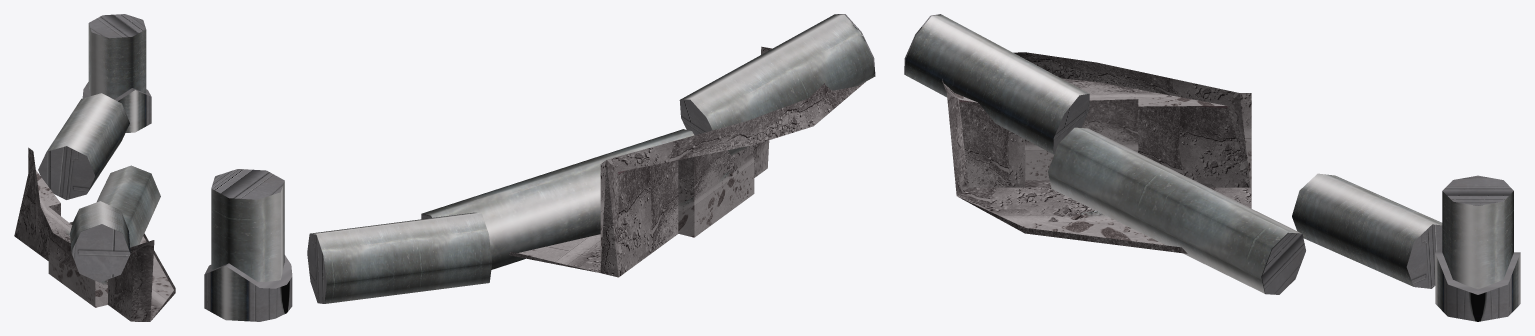
The model's file is Cor1_prop_Grand_hall_rubble_3.fbx.
The picture shows the model from 3 angles, left to right: view 1: azimuth 30°, elevation 25°; view 2: azimuth 150°, elevation 25°; view 3: azimuth 270°, elevation 25°; orthographic projection. The views are drawn at different scales.
Visible parts, largest first — view 1: rubble_3, polymsh_detached45, polymsh1284, polymsh_detached44, polymsh_detached46; view 2: rubble_3, polymsh_detached45, polymsh1284, polymsh_detached44, polymsh_detached46; view 3: rubble_3, polymsh_detached46, polymsh_detached44, polymsh1284, polymsh_detached45.
Part boxes in pixels (x1=…): rubble_3: x1=14, y1=147, x2=175, y2=321; polymsh_detached45: x1=38, y1=93, x2=129, y2=199; polymsh1284: x1=82, y1=14, x2=151, y2=132; polymsh_detached44: x1=70, y1=201, x2=130, y2=282; polymsh_detached46: x1=97, y1=165, x2=160, y2=247; rubble_3: x1=508, y1=46, x2=865, y2=277; polymsh_detached45: x1=307, y1=212, x2=492, y2=303; polymsh1284: x1=204, y1=169, x2=292, y2=321; polymsh_detached44: x1=679, y1=14, x2=875, y2=155; polymsh_detached46: x1=421, y1=129, x2=694, y2=269; rubble_3: x1=942, y1=52, x2=1251, y2=253; polymsh_detached46: x1=1048, y1=127, x2=1305, y2=294; polymsh_detached44: x1=904, y1=14, x2=1089, y2=154; polymsh1284: x1=1435, y1=175, x2=1520, y2=321; polymsh_detached45: x1=1292, y1=173, x2=1442, y2=288.
Size of what is drawn, in the model's own units: 14.68 by 6.87 by 21.67.
